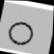no answer: (4, 18, 35, 48)
